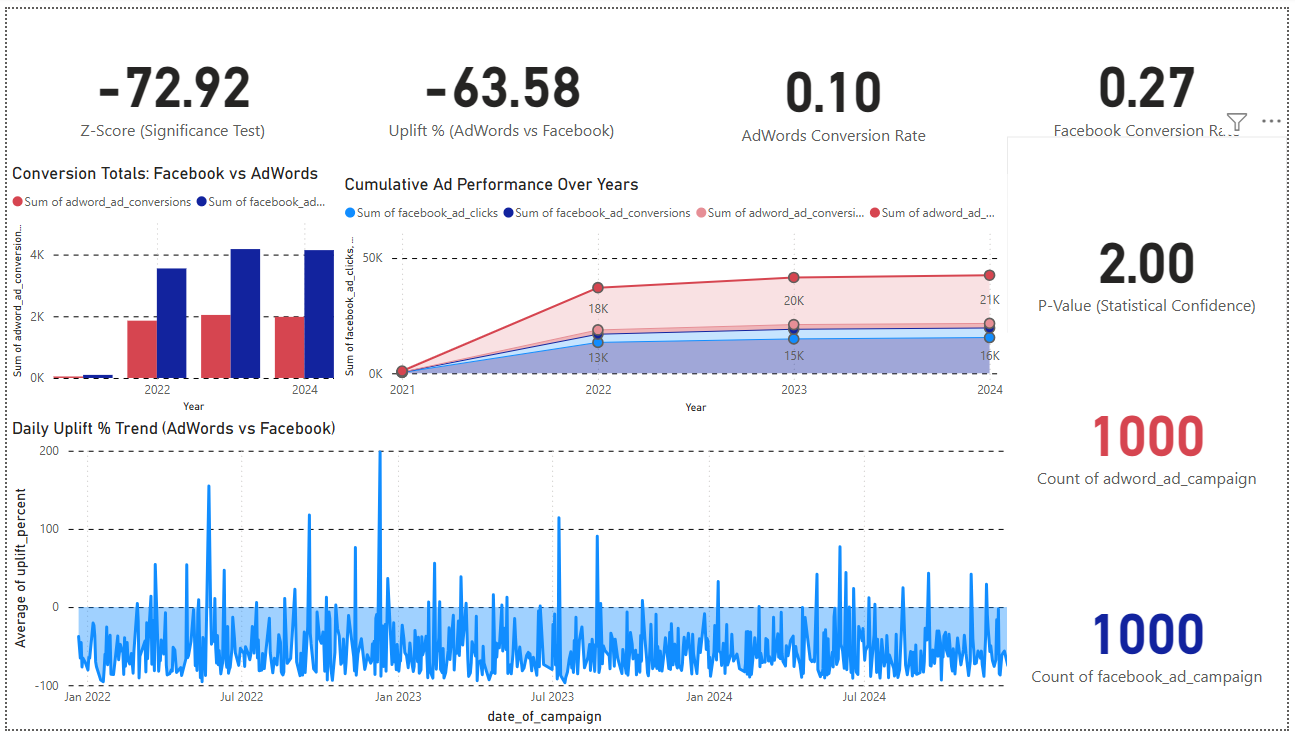

This screenshot's page, from the dashboard's own definition file:
{"tool":"powerbi","page":{"name":"Page 1","canvas":[1280,720],"ordinal":0},"visuals":[{"type":"card","fields":{"Values":["Max(Query2.uplift_percent)"]},"box":[365,0,259.3,164.7],"z":0},{"type":"card","fields":{"Values":["Max(Query2.z_score)"]},"box":[0,0,332.1,164.7],"z":1},{"type":"card","fields":{"Values":["Max(Query2.p2)"]},"box":[680.6,0,293.7,174.3],"z":2},{"type":"card","fields":{"Values":["Max(Query2.p1)"]},"box":[1000.3,0,279.9,164.7],"z":3},{"type":"card","fields":{"Values":["Max(Query2.p_value)"]},"box":[1000.3,127.6,279.9,260.7],"z":4},{"type":"clusteredColumnChart","title":"Conversion Totals: Facebook vs AdWords","fields":{"Y":["Sum(Query1.adword_ad_conversions)","Sum(Query1.facebook_ad_conversions)"],"Category":["Query1.date_of_campaign.Variation.Date Hierarchy.Year","Query1.date_of_campaign.Variation.Date Hierarchy.Quarter","Query1.date_of_campaign.Variation.Date Hierarchy.Month","Query1.date_of_campaign.Variation.Date Hierarchy.Day"]},"box":[0,153.7,332.1,255.2],"z":5},{"type":"lineChart","title":"Daily Uplift % Trend (AdWords vs Facebook)","fields":{"Y":["Avg(Query1.uplift_percent)"],"Category":["Query1.date_of_campaign"]},"box":[0,408.9,1030.5,311.5],"z":6},{"type":"stackedAreaChart","title":"Cumulative Ad Performance Over Years","fields":{"Category":["Query1.date_of_campaign.Variation.Date Hierarchy.Year","Query1.date_of_campaign.Variation.Date Hierarchy.Quarter","Query1.date_of_campaign.Variation.Date Hierarchy.Month","Query1.date_of_campaign.Variation.Date Hierarchy.Day"],"Y":["Sum(Query1.facebook_ad_clicks)","Sum(Query1.facebook_ad_conversions)","Sum(Query1.adword_ad_conversions)","Sum(Query1.adword_ad_clicks)"]},"box":[332.1,164.7,668.3,244.3],"z":7},{"type":"card","fields":{"Values":["CountNonNull(public ab_test_data.adword_ad_campaign)"]},"box":[1000.3,323.8,279.9,214.1],"z":8},{"type":"card","fields":{"Values":["CountNonNull(public ab_test_data.facebook_ad_campaign)"]},"box":[1000.3,537.9,279.9,182.5],"z":9}]}

Visuals, with their boxes in screenshot pixels (x1, y1, x2, y2), scaled from the page's 1280x720 canvas onto the 1295x739 screenshot:
card - Max(Query2.uplift_percent): <bbox>369, 0, 632, 169</bbox>
card - Max(Query2.z_score): <bbox>0, 0, 336, 169</bbox>
card - Max(Query2.p2): <bbox>689, 0, 986, 179</bbox>
card - Max(Query2.p1): <bbox>1012, 0, 1294, 169</bbox>
card - Max(Query2.p_value): <bbox>1012, 131, 1294, 399</bbox>
"Conversion Totals: Facebook vs AdWords" clusteredColumnChart: <bbox>0, 158, 336, 420</bbox>
"Daily Uplift % Trend (AdWords vs Facebook)" lineChart: <bbox>0, 420, 1043, 738</bbox>
"Cumulative Ad Performance Over Years" stackedAreaChart: <bbox>336, 169, 1012, 420</bbox>
card - CountNonNull(public ab_test_data.adword_ad_campaign): <bbox>1012, 332, 1294, 552</bbox>
card - CountNonNull(public ab_test_data.facebook_ad_campaign): <bbox>1012, 552, 1294, 738</bbox>
